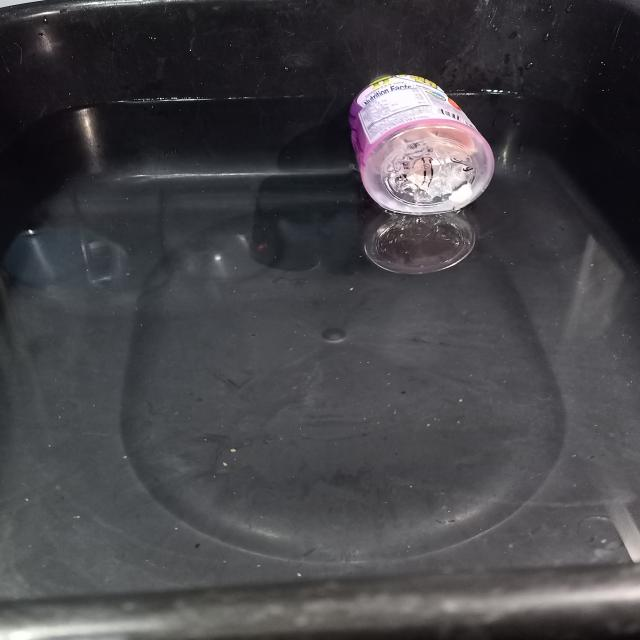Plastic Bottle: (349, 75, 494, 215)
